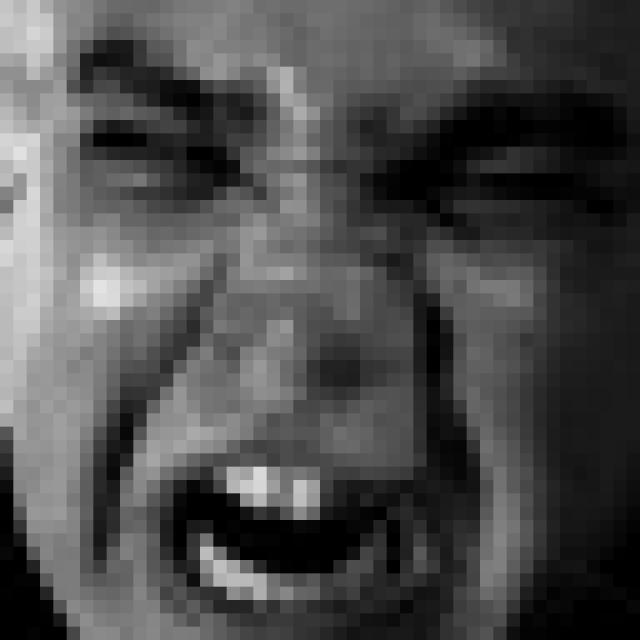angry: (56, 33, 604, 640)
